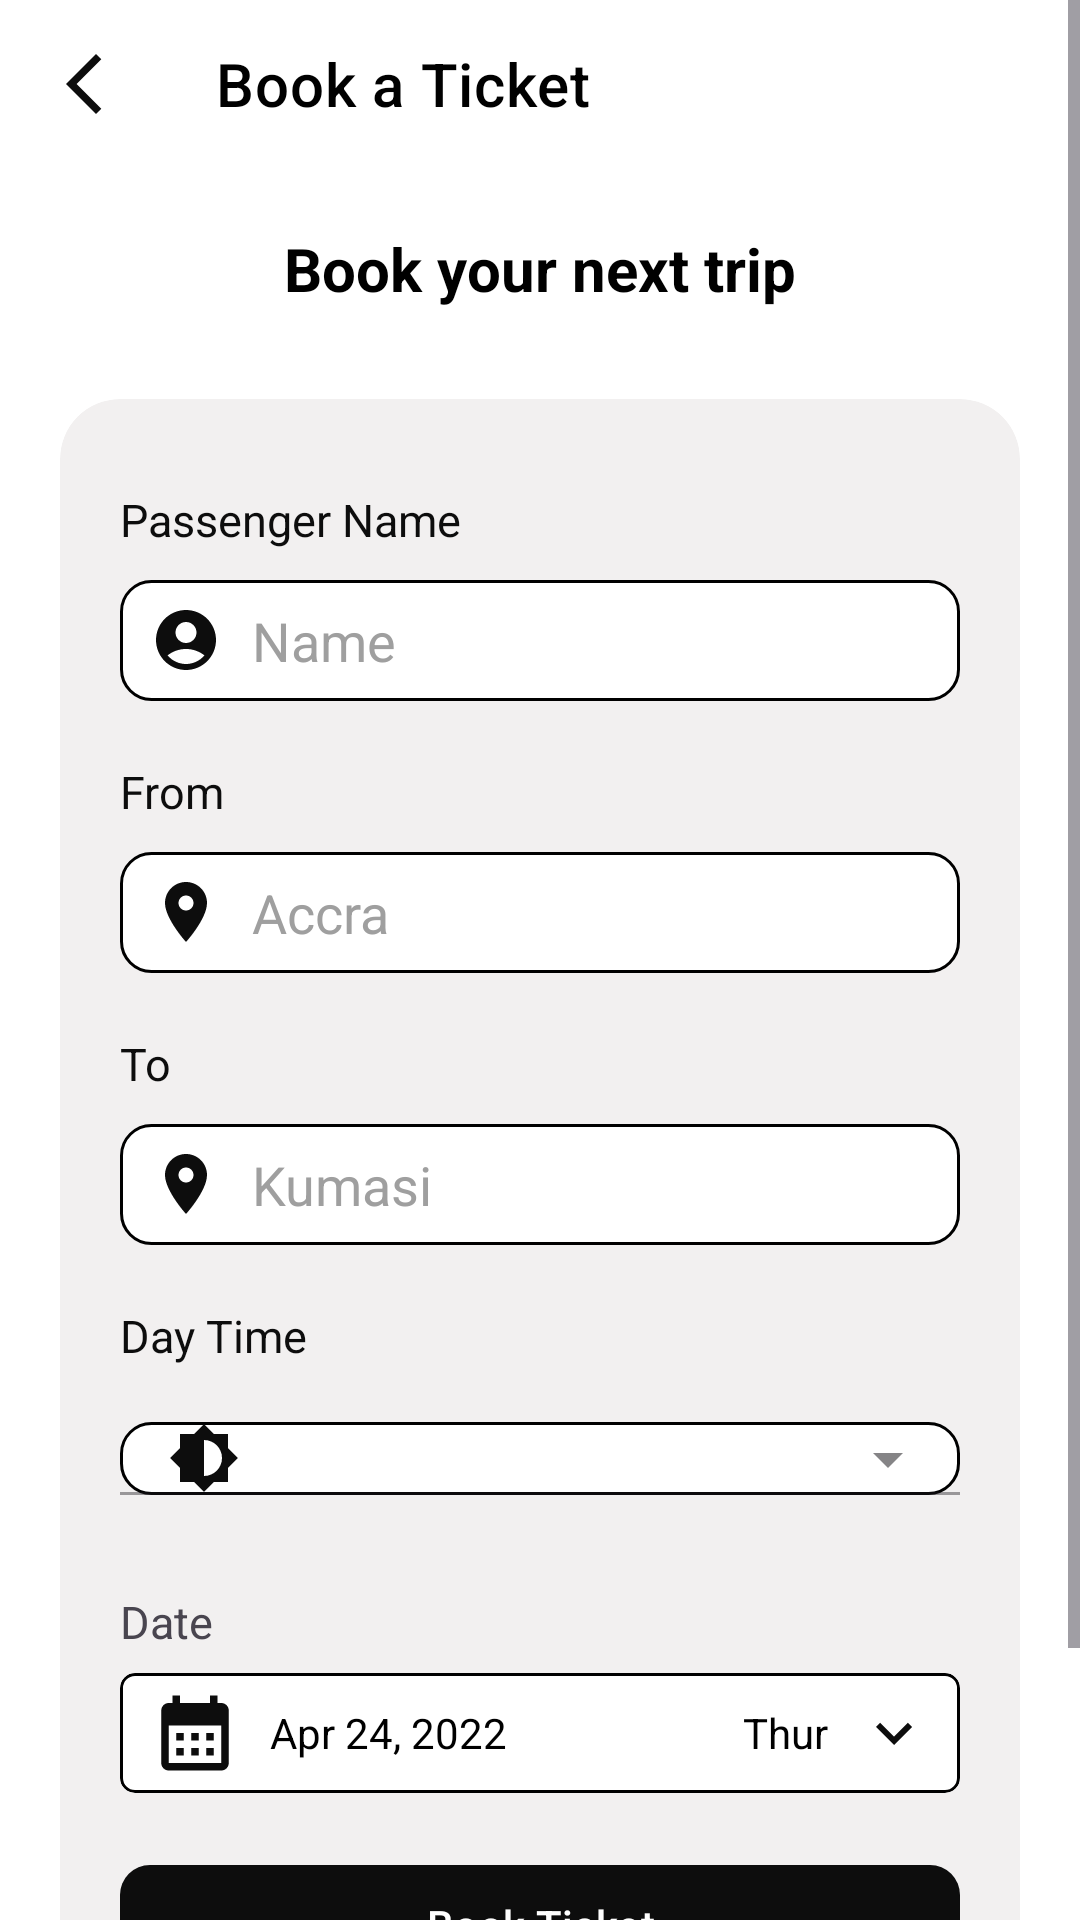

Locate icon controls on the screen. Image size 1080w x 1920h, boxes as [x1=x1, y1=y1, x2=x2, y2=y2].
calendar: [x1=161, y1=1695, x2=229, y2=1771]
keyboard arrow down: [x1=876, y1=1723, x2=912, y2=1745]
